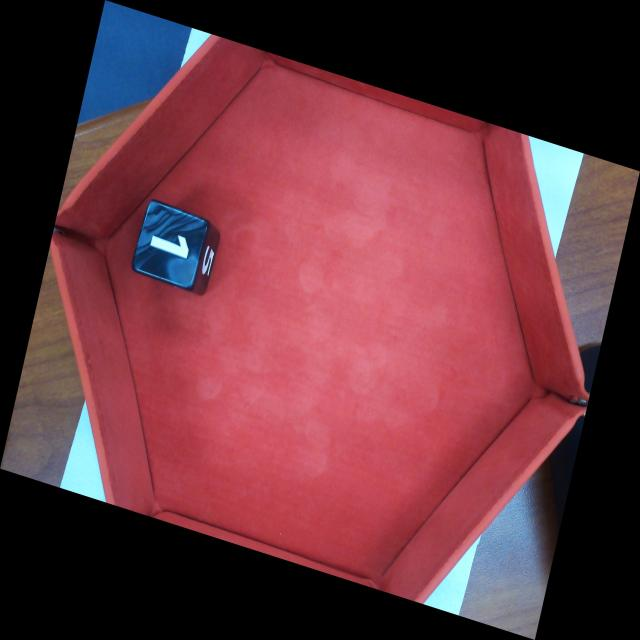dice: (131, 198, 214, 294)
